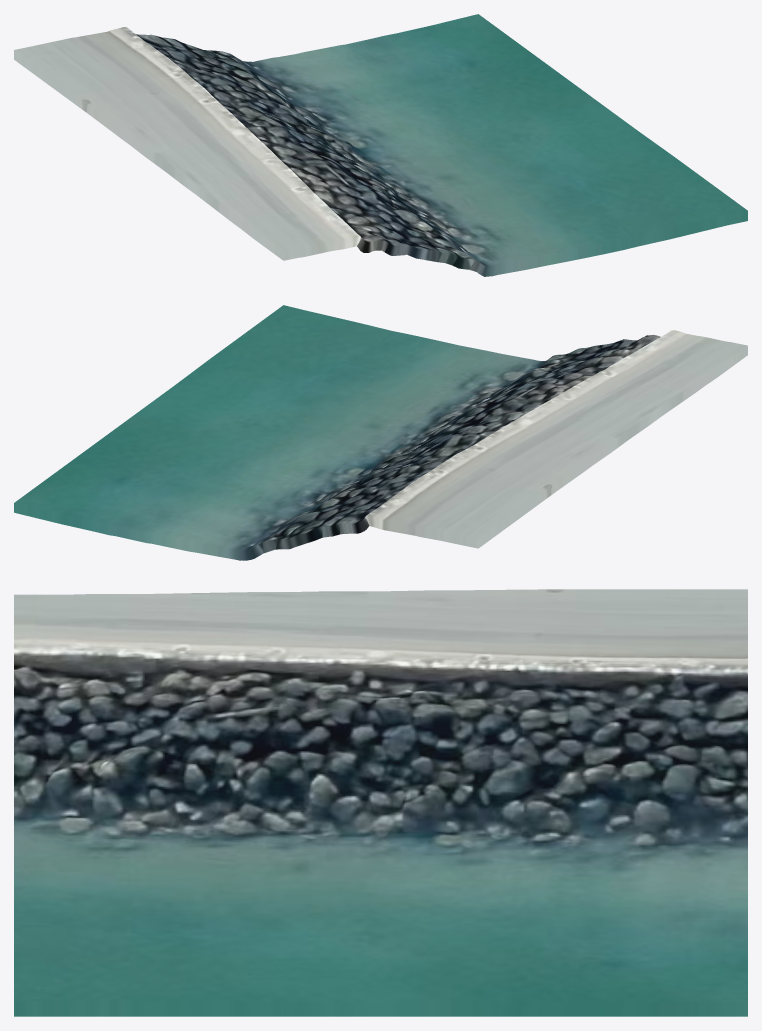
File: z20-167558-405170-h0-yup-uvflip-v3-world.glb
The picture shows the model from 3 angles, top to bottom: view 1: azimuth 30°, elevation 25°; view 2: azimuth 150°, elevation 25°; view 3: azimuth 270°, elevation 25°; orthographic projection. The views are drawn at different scales.
Size of the model in its own units: 30.16 by 5.4 by 30.32.
Materials: 1 (1 with a texture image).
